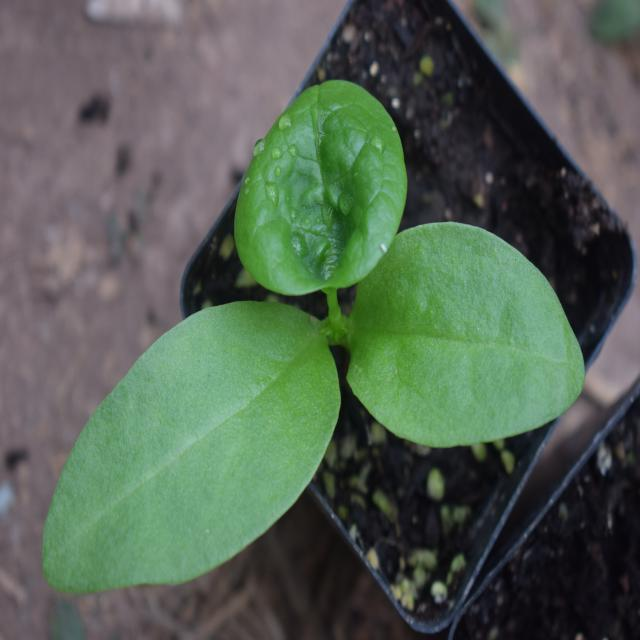Ceylon spinach: (50, 78, 569, 574)
